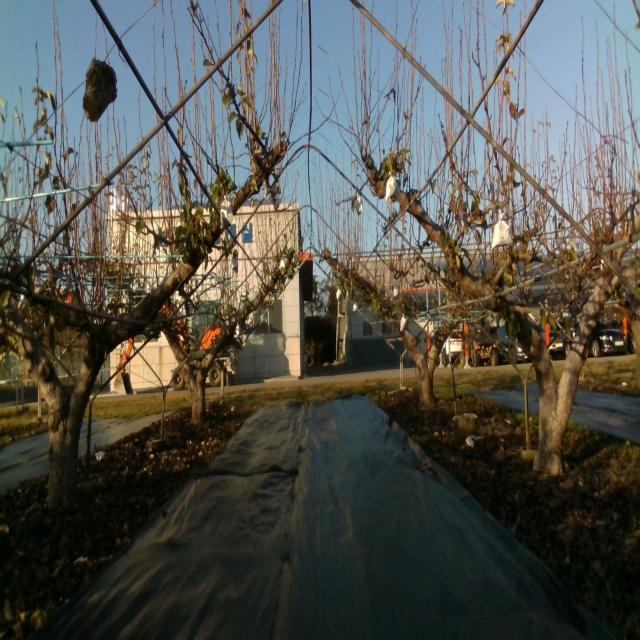pearbags: (491, 212, 513, 250), (386, 172, 401, 202), (219, 196, 233, 226)
